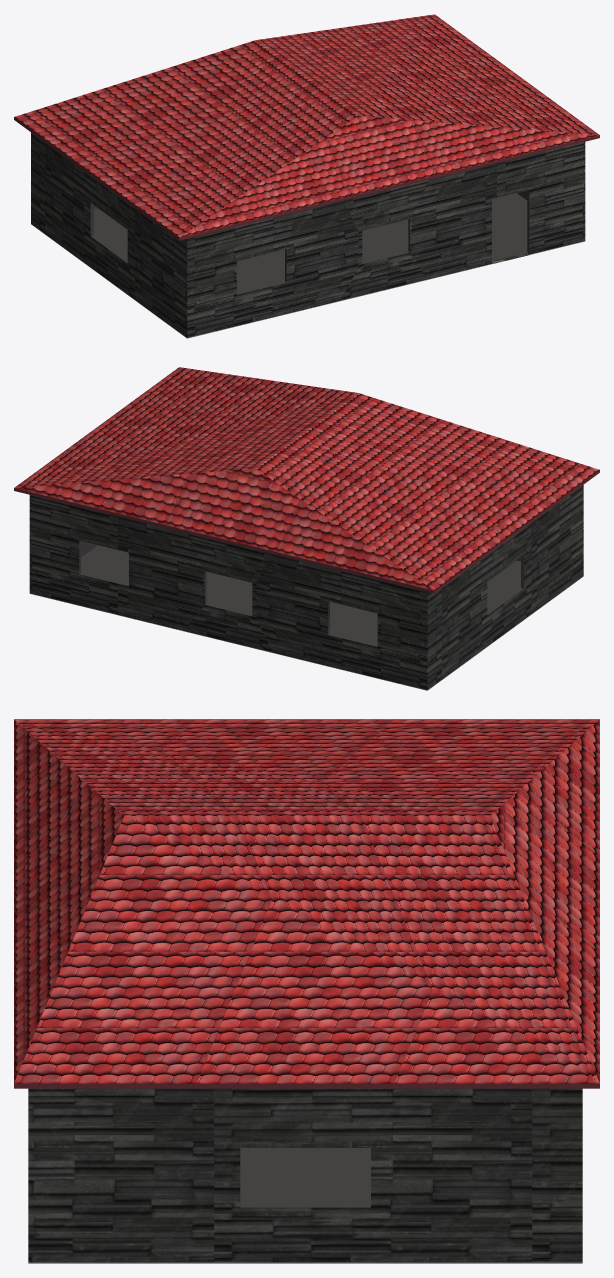
The model's file is HOUSE_12.fbx.
3 renders of one model, top to bottom at view 1: azimuth 30°, elevation 25°; view 2: azimuth 150°, elevation 25°; view 3: azimuth 270°, elevation 25°, orthographic. The views are drawn at different scales.
Visible parts, largest first — view 1: HOUSE_12; view 2: HOUSE_12; view 3: HOUSE_12.
Boxes of the visible parts, box(x1,y1,x2,y2) form: HOUSE_12: box(14, 14, 599, 338); HOUSE_12: box(14, 367, 599, 690); HOUSE_12: box(14, 719, 599, 1263).
Bounding box in the file's own units: 1419 × 499 × 965.
